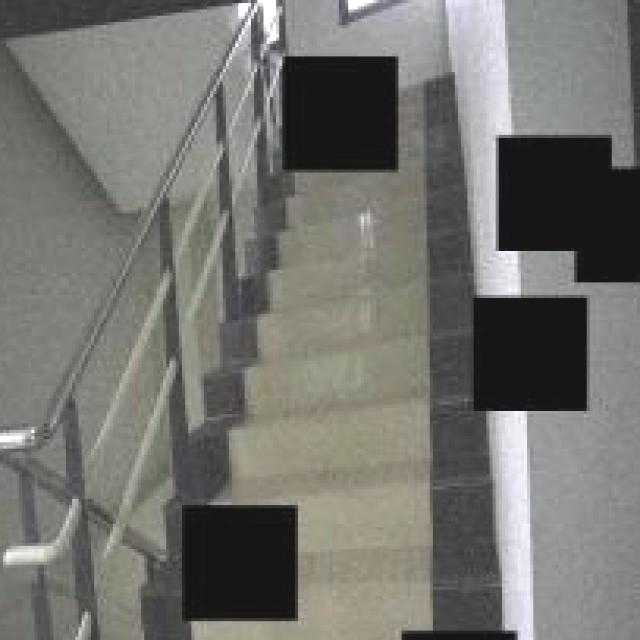upstair: (193, 211, 466, 484)
